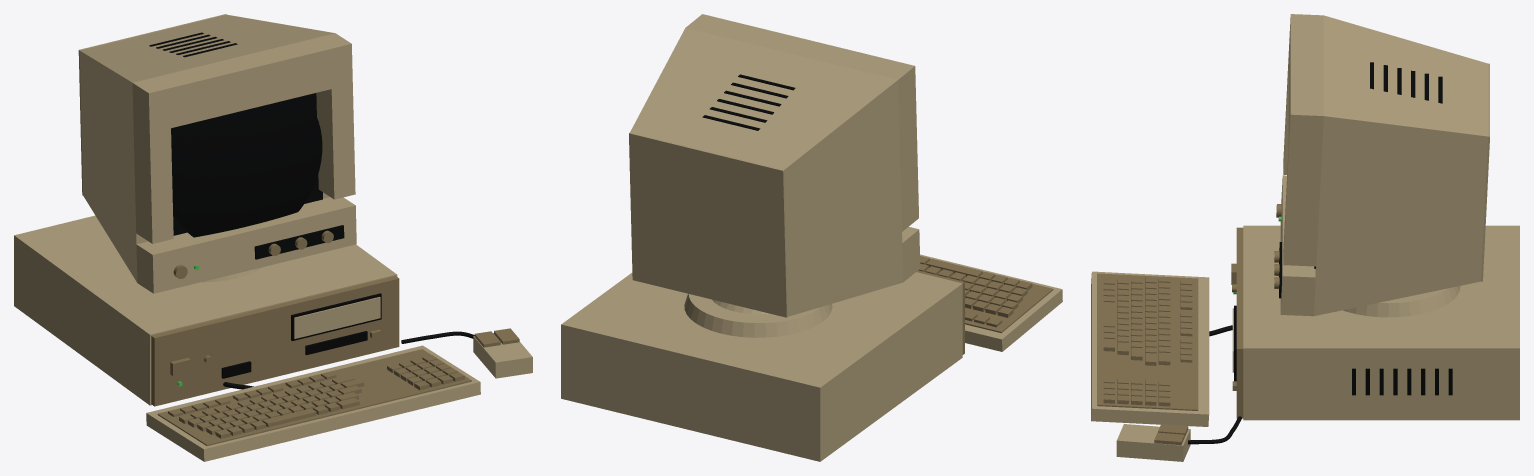
File: DesktopPC1991.obj
3 views of the same model, side by side, from view 1: azimuth 30°, elevation 25°; view 2: azimuth 150°, elevation 25°; view 3: azimuth 270°, elevation 25° (orthographic). The views are drawn at different scales.
Parts seen in each view (by area): view 1: DesktopPC1991; view 2: DesktopPC1991; view 3: DesktopPC1991.
Boxes of the visible parts, left/top/right/bottom form: DesktopPC1991: left=14, top=14, right=532, bottom=461; DesktopPC1991: left=561, top=14, right=1062, bottom=461; DesktopPC1991: left=1091, top=14, right=1519, bottom=461.
Bounding box in the file's own units: 0.5973 × 0.4816 × 0.6204.
